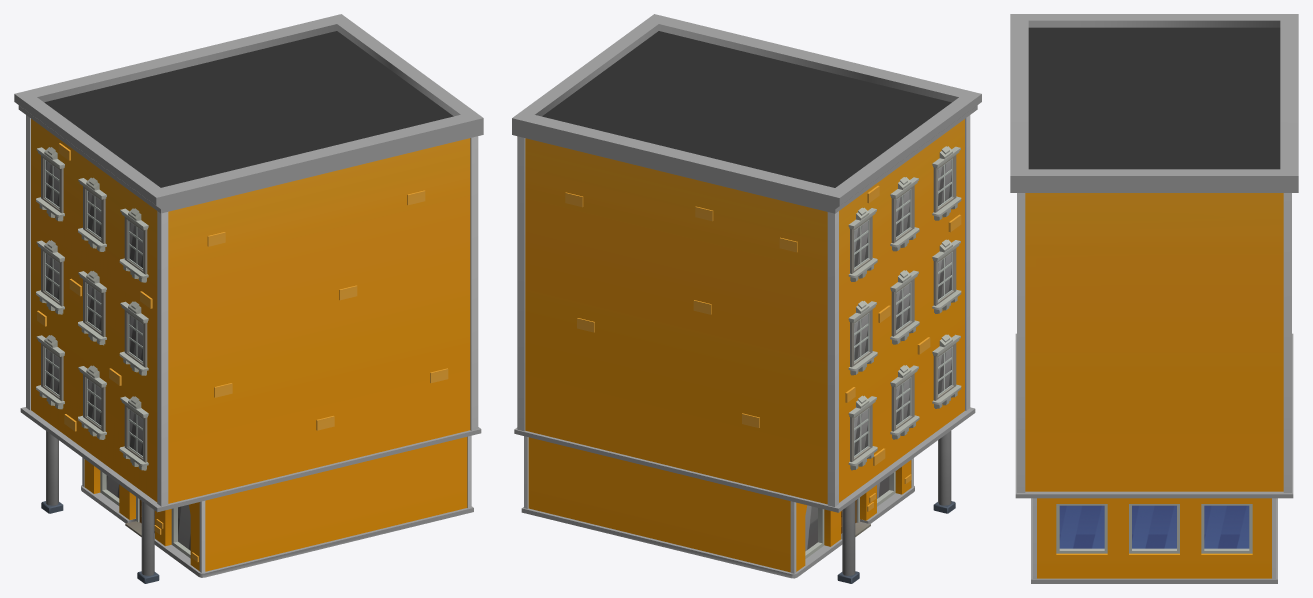
File: Building_4_H.fbx
3 views of the same model, side by side, from view 1: azimuth 30°, elevation 25°; view 2: azimuth 150°, elevation 25°; view 3: azimuth 270°, elevation 25° (orthographic).
Parts seen in each view (by area): view 1: Building_4_H; view 2: Building_4_H; view 3: Building_4_H.
Boxes of the visible parts, <box> form: Building_4_H: <box>14,14,483,583</box>; Building_4_H: <box>512,14,981,583</box>; Building_4_H: <box>1010,14,1298,583</box>.
Bounding box in the file's own units: 1585 × 1855 × 1191.
